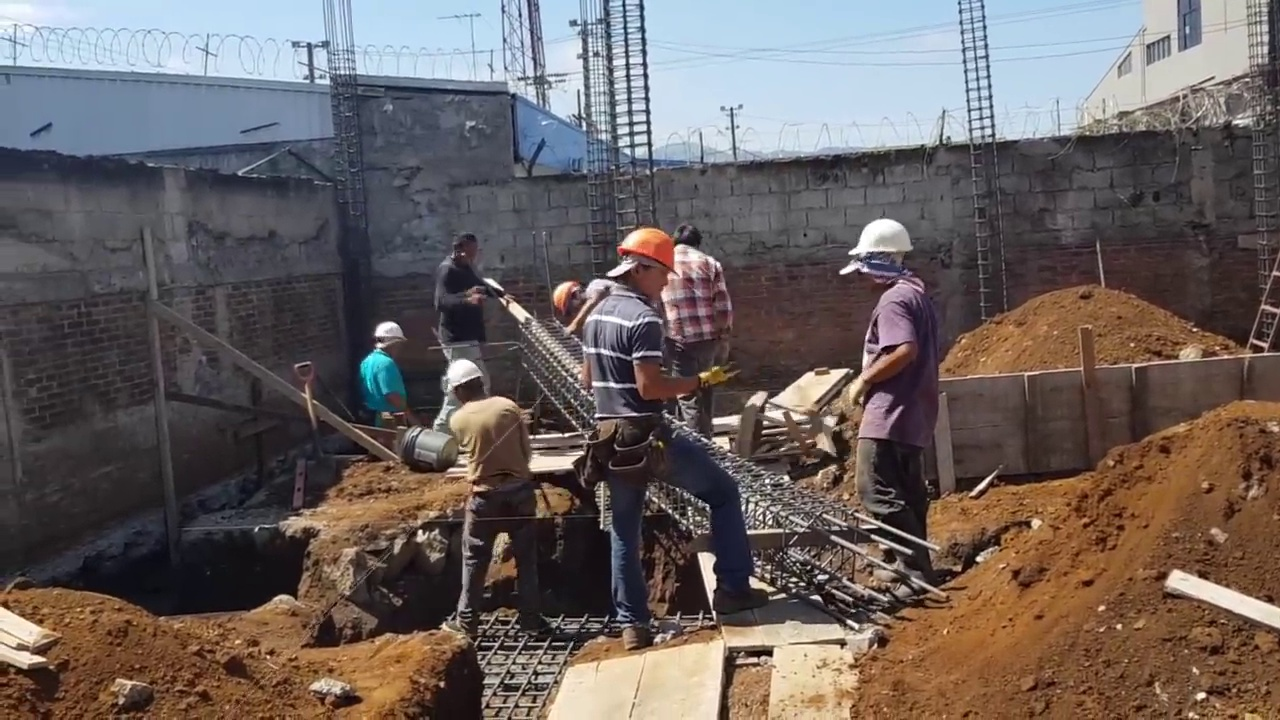helmet: (848, 215, 915, 263), (616, 226, 674, 272), (444, 359, 482, 391), (553, 280, 578, 315), (370, 325, 402, 345)
helmet-off: (445, 236, 475, 267), (673, 223, 704, 250)
helmet-on: (845, 217, 914, 287), (618, 228, 679, 299), (440, 355, 485, 407), (369, 320, 406, 357), (553, 280, 587, 315)
person: (570, 225, 750, 658), (847, 217, 942, 630), (431, 356, 539, 638), (652, 222, 738, 442), (435, 232, 511, 385), (348, 318, 410, 427), (554, 276, 644, 336)
